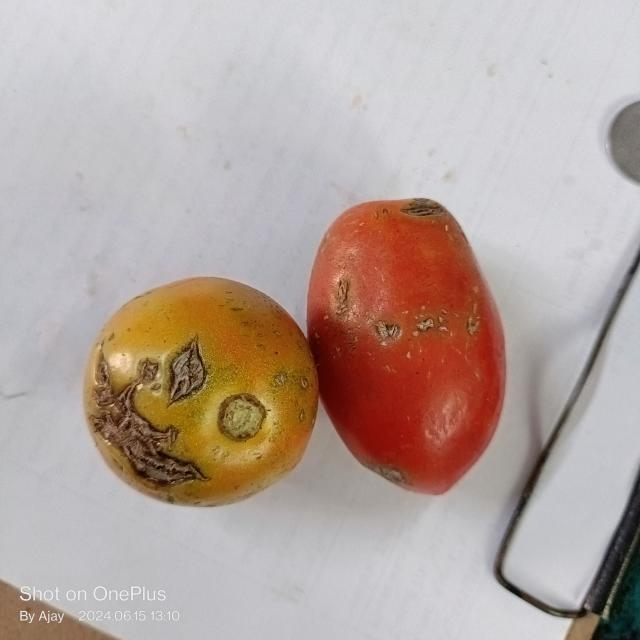Bacterial_Spot: (91, 340, 210, 497), (326, 270, 357, 321), (396, 196, 452, 220), (412, 310, 447, 336), (372, 316, 404, 342), (466, 313, 484, 333)
